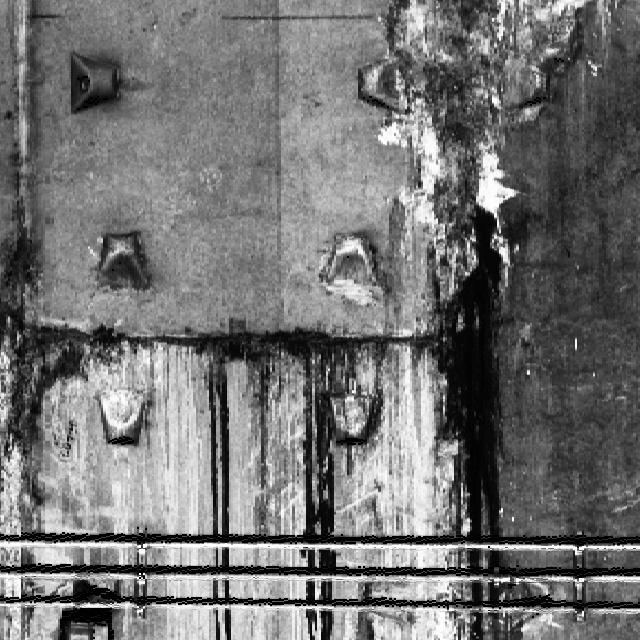leakage: (405, 0, 583, 638), (169, 318, 392, 639), (2, 147, 124, 519)
